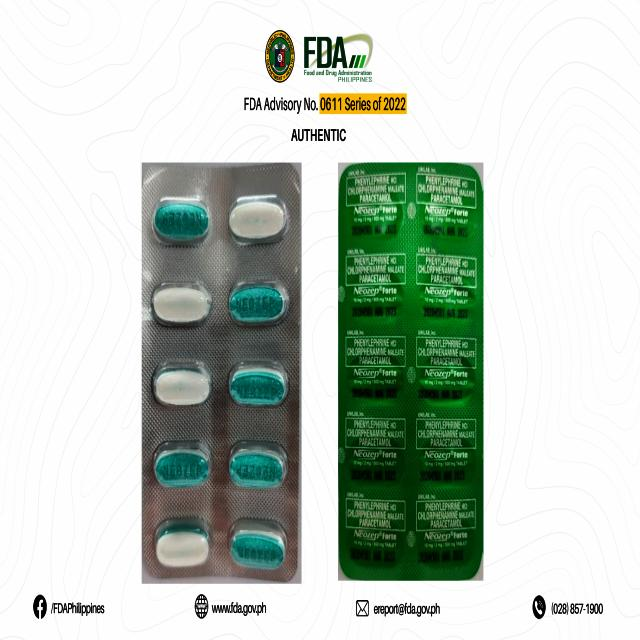authentic: (141, 159, 303, 590), (334, 156, 486, 588)
